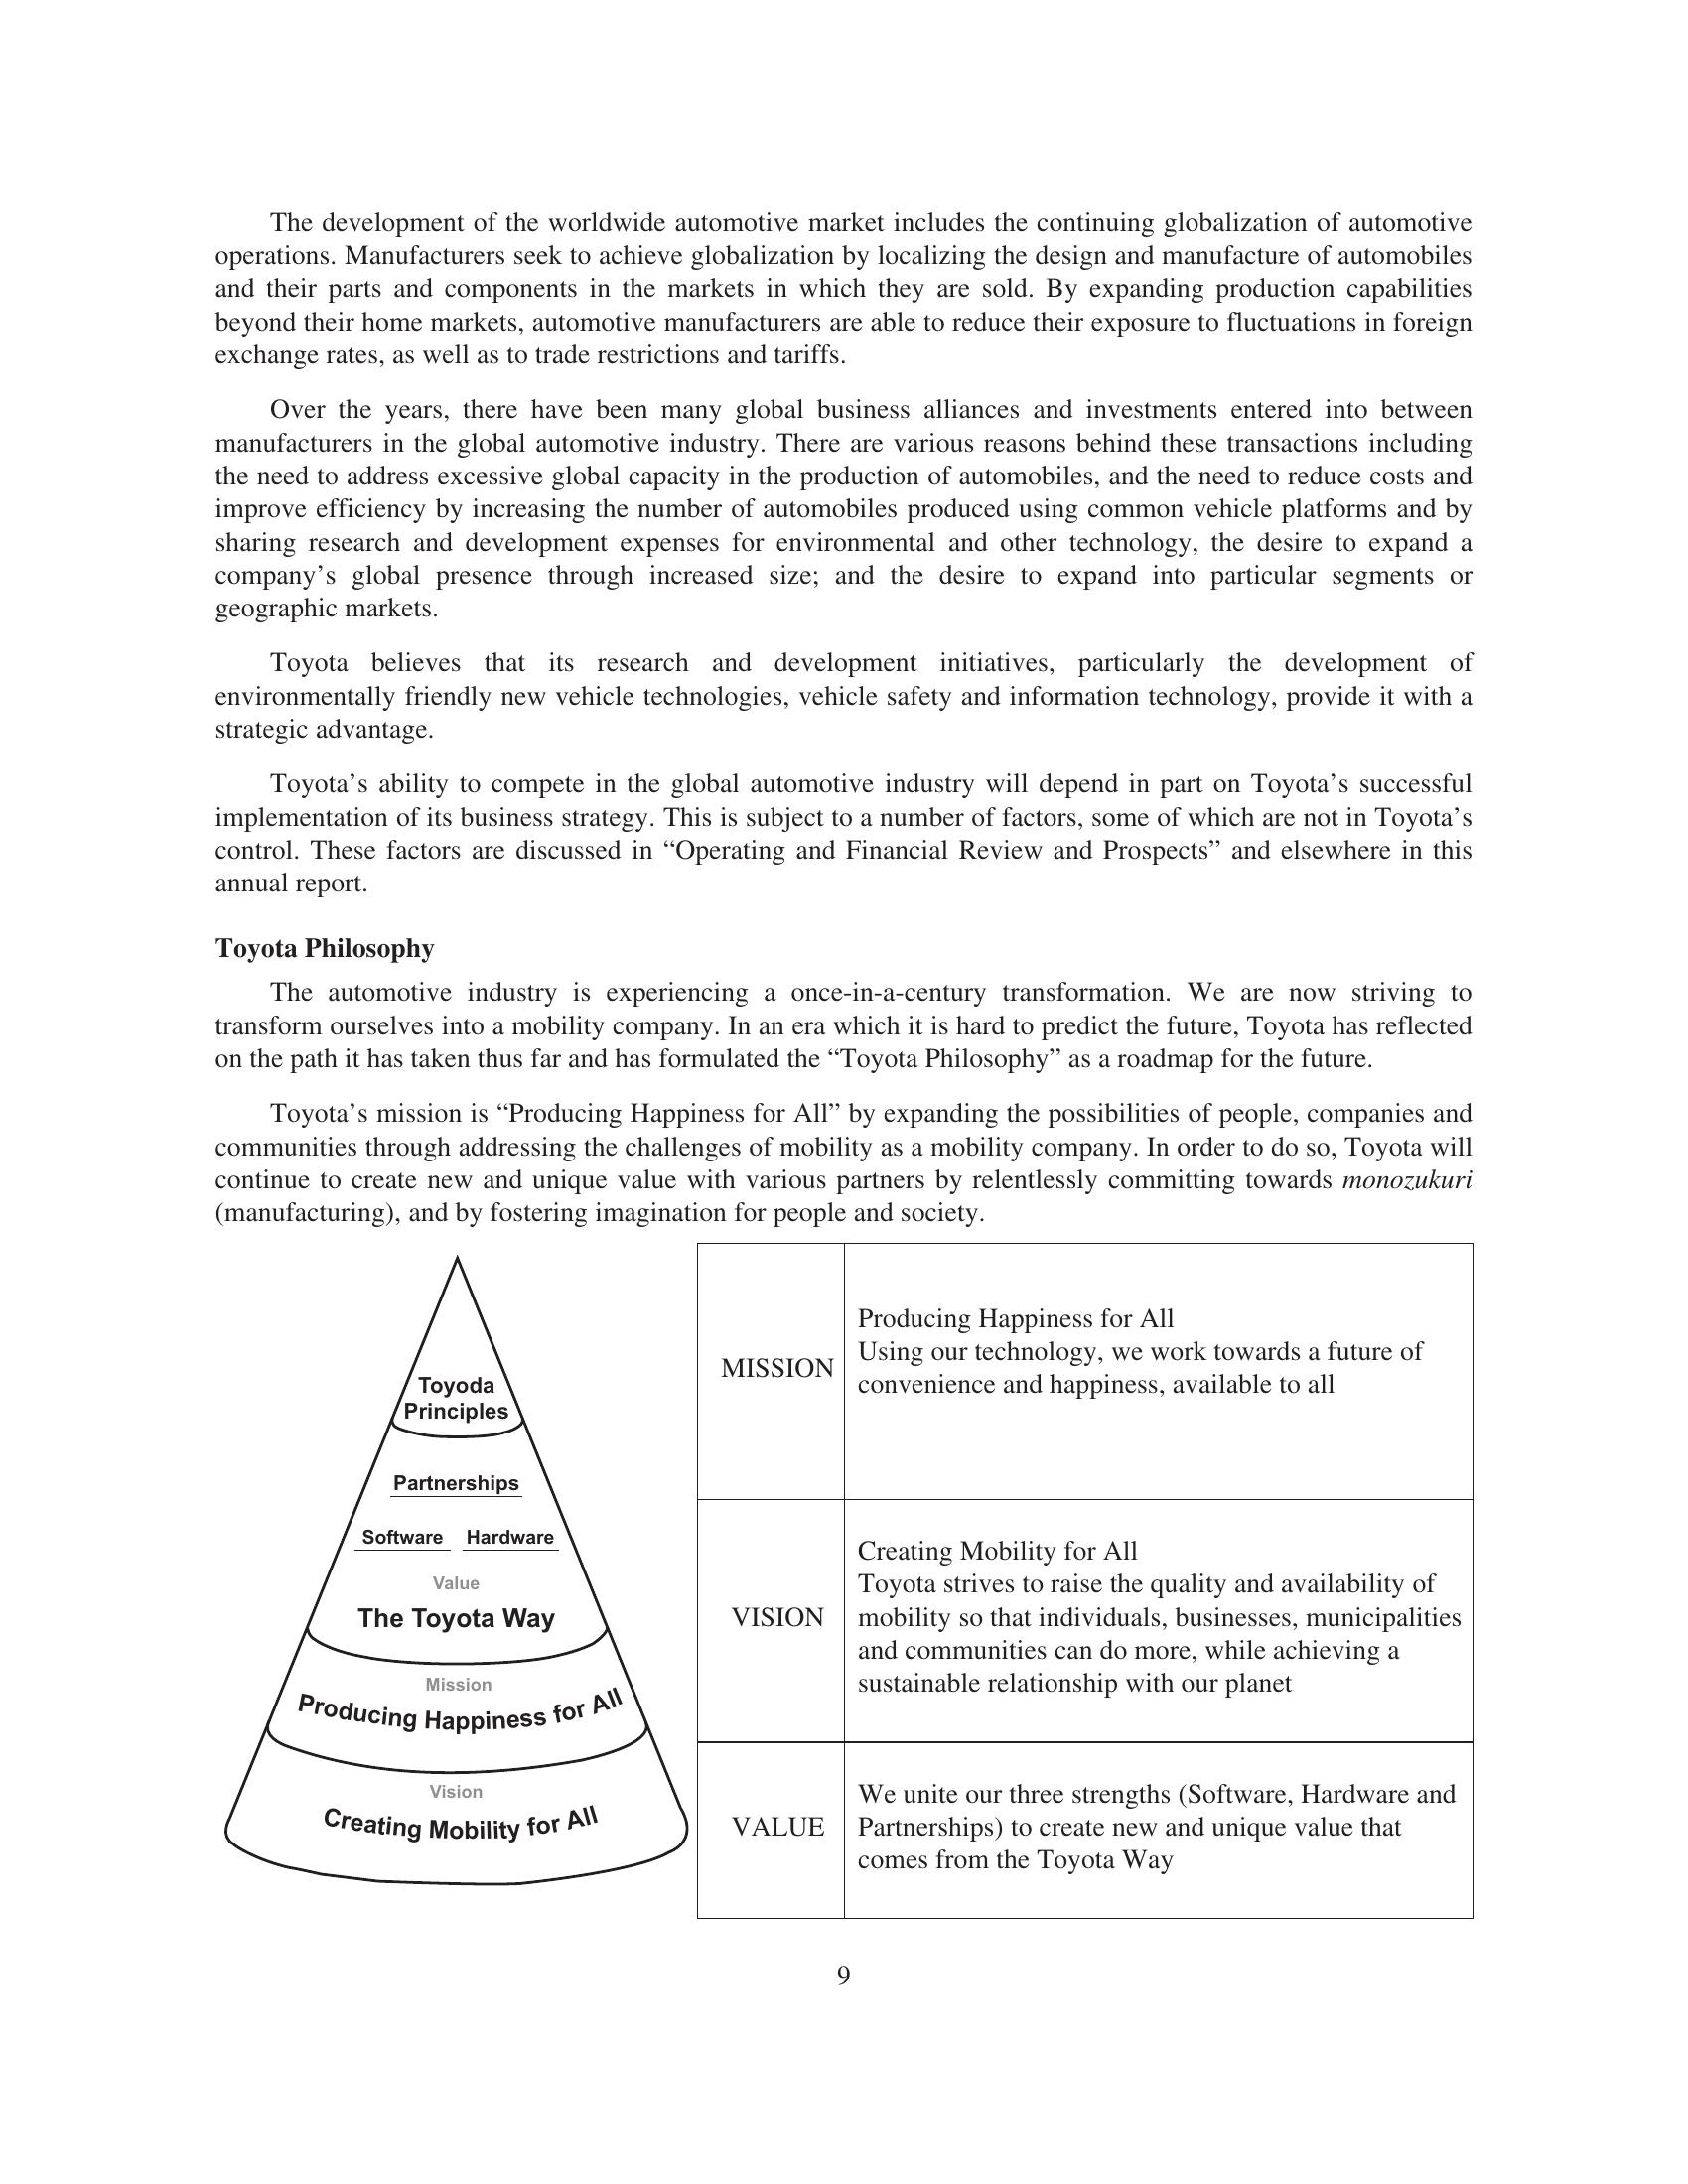Footer: (0, 1954, 1688, 2184)
Header: (0, 0, 1688, 158)
Table: (78, 1230, 1525, 1932)
